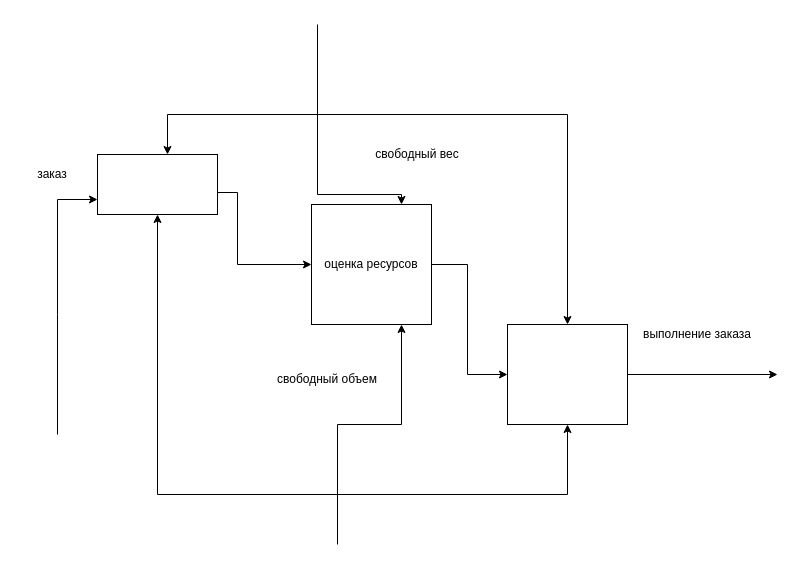
The diagram is 803 pixels wide and 570 high, and some of its shapes have lost their labels. Here are the shapes that lost their labels. From the top down, the centre of each, then its label:
At point 157,184: "груз".
At point 567,374: "решение о возможности транспортировки данным транспортным средством".
